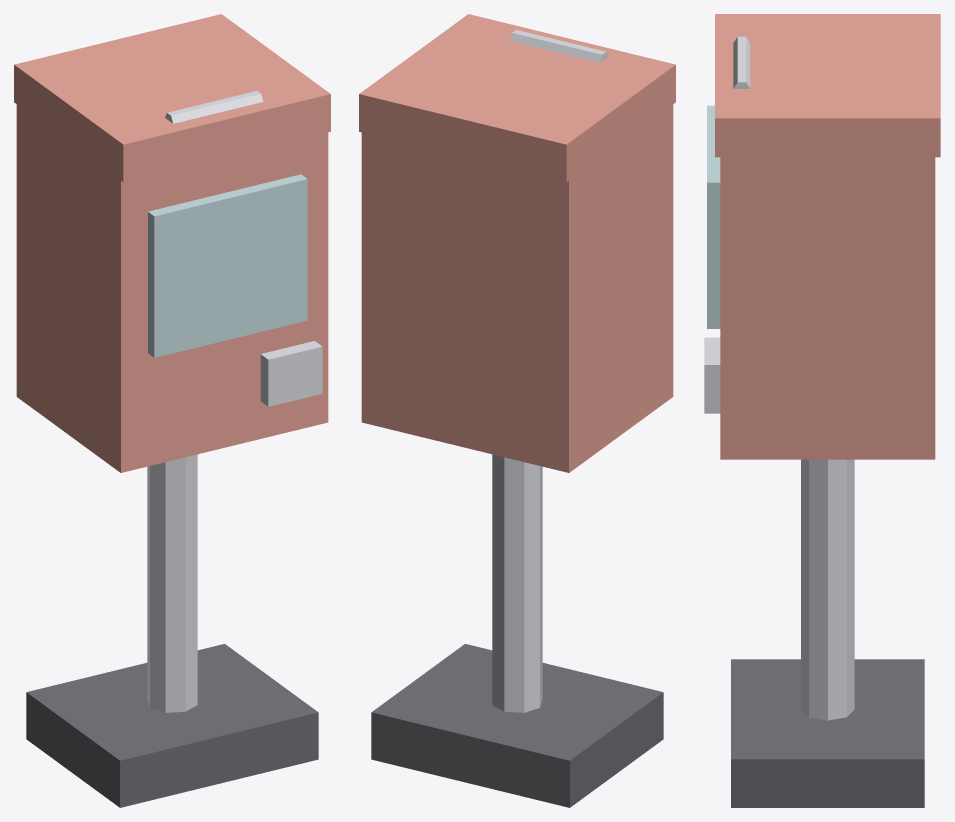
Rendered from News_Box.glb.
The picture shows the model from 3 angles, left to right: view 1: azimuth 30°, elevation 25°; view 2: azimuth 150°, elevation 25°; view 3: azimuth 270°, elevation 25°; orthographic projection. The views are drawn at different scales.
Visible parts, largest first — view 1: newspaper-box-coral, flap/coral, newspaper-box-asphalt, newspaper-box-glass, newspaper-box-chrome, flap/chrome; view 2: newspaper-box-coral, flap/coral, newspaper-box-asphalt, newspaper-box-chrome, flap/chrome; view 3: newspaper-box-coral, flap/coral, newspaper-box-asphalt, newspaper-box-chrome, newspaper-box-glass, flap/chrome.
Boxes of the visible parts, <box> form: newspaper-box-coral: <box>16,104,328,472</box>; flap/coral: <box>14,14,330,182</box>; newspaper-box-asphalt: <box>26,644,318,807</box>; newspaper-box-glass: <box>148,174,307,357</box>; newspaper-box-chrome: <box>147,341,322,712</box>; flap/chrome: <box>165,91,263,123</box>; newspaper-box-coral: <box>361,104,673,472</box>; flap/coral: <box>359,14,675,182</box>; newspaper-box-asphalt: <box>371,644,663,807</box>; newspaper-box-chrome: <box>492,454,542,712</box>; flap/chrome: <box>510,30,608,62</box>; newspaper-box-coral: <box>720,157,935,459</box>; flap/coral: <box>715,14,940,157</box>; newspaper-box-asphalt: <box>731,659,924,807</box>; newspaper-box-chrome: <box>704,337,854,720</box>; newspaper-box-glass: <box>707,105,720,328</box>; flap/chrome: <box>733,36,750,88</box>.
Size of the model in its own units: 0.46 by 1.43 by 0.44.
